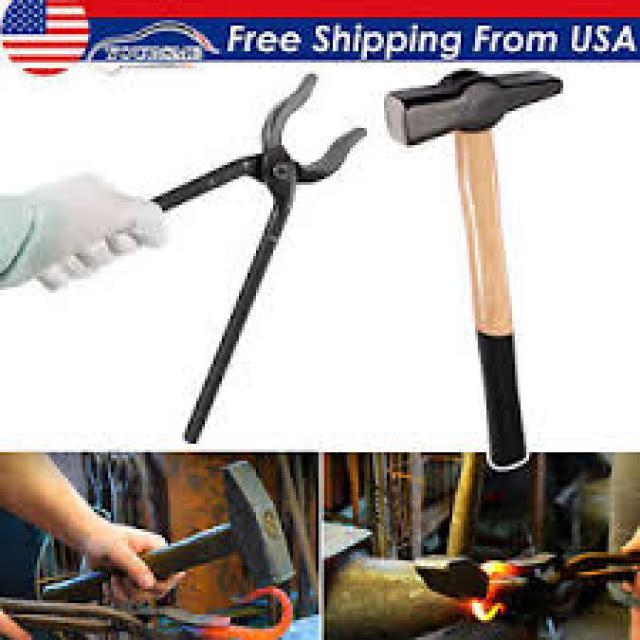hammer: (394, 52, 576, 476), (27, 456, 303, 614), (396, 445, 496, 610)
